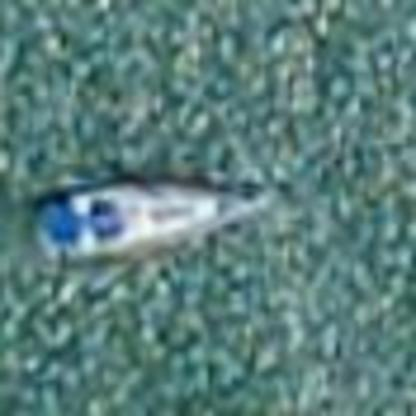ship: (19, 165, 278, 268)
